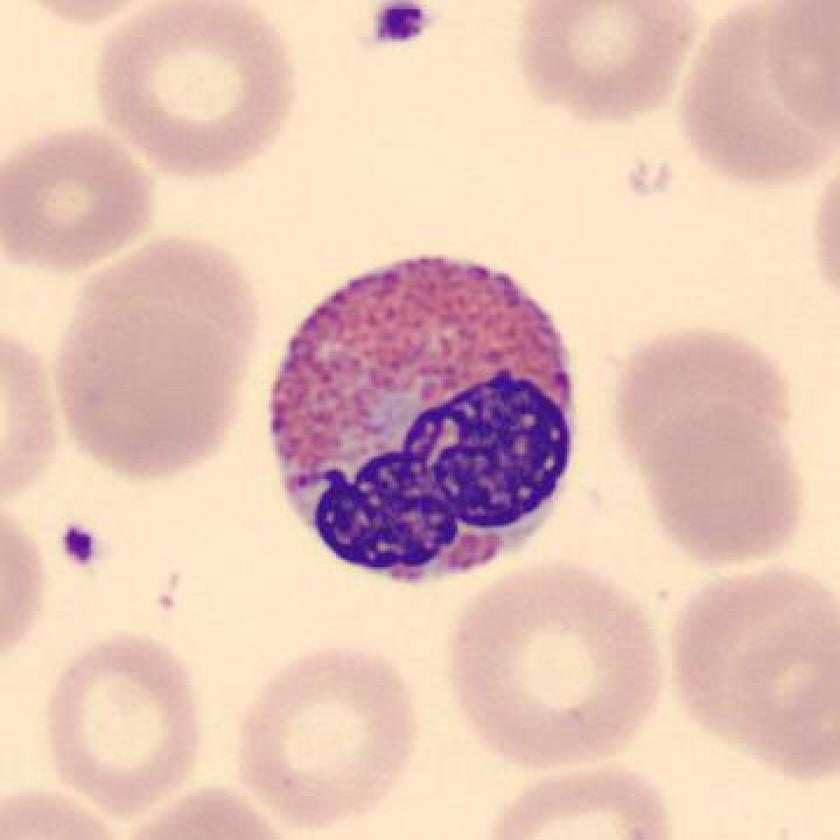eosinophil: (256, 244, 592, 600)
